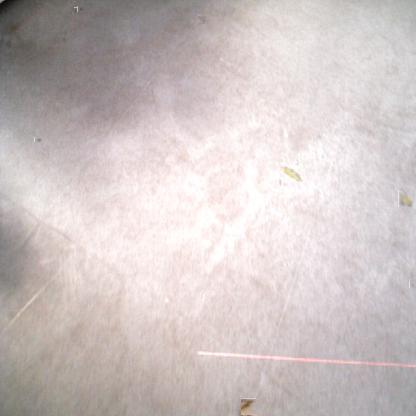dirty: (281, 164, 301, 184), (239, 399, 257, 416), (398, 189, 413, 207)
mark: (196, 14, 206, 24), (409, 278, 416, 288), (277, 177, 283, 188), (35, 136, 43, 143), (78, 6, 86, 13), (61, 36, 68, 43), (74, 7, 78, 16)
